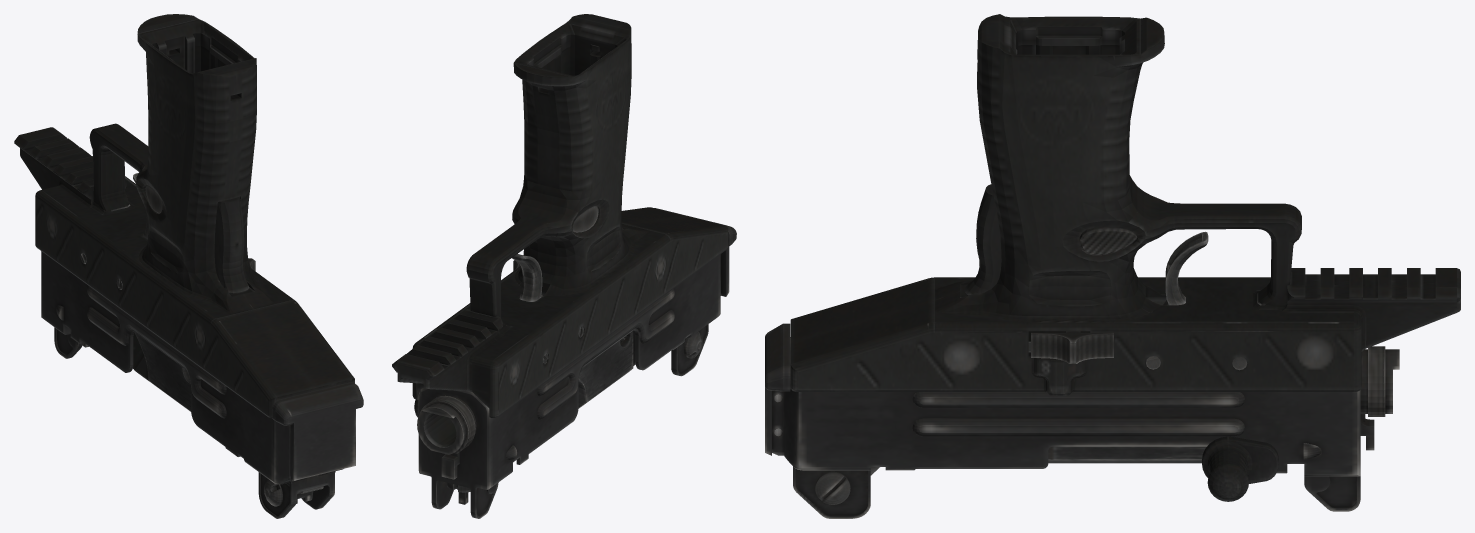
3 views of the same model, side by side, from view 1: azimuth 30°, elevation 25°; view 2: azimuth 150°, elevation 25°; view 3: azimuth 270°, elevation 25° (orthographic). The views are drawn at different scales.
Visible parts, largest first — view 1: TW_6680304edadb7aa61d00cef0_PZ_Import; view 2: TW_6680304edadb7aa61d00cef0_PZ_Import; view 3: TW_6680304edadb7aa61d00cef0_PZ_Import.
Boxes of the visible parts, x1,y1,x2,y2 form: TW_6680304edadb7aa61d00cef0_PZ_Import: (14, 14, 363, 518); TW_6680304edadb7aa61d00cef0_PZ_Import: (392, 14, 736, 518); TW_6680304edadb7aa61d00cef0_PZ_Import: (765, 14, 1460, 518).
Size of the model in its own units: 0.0375 by 0.1399 by 0.1053.
1 material, 1 textured.
